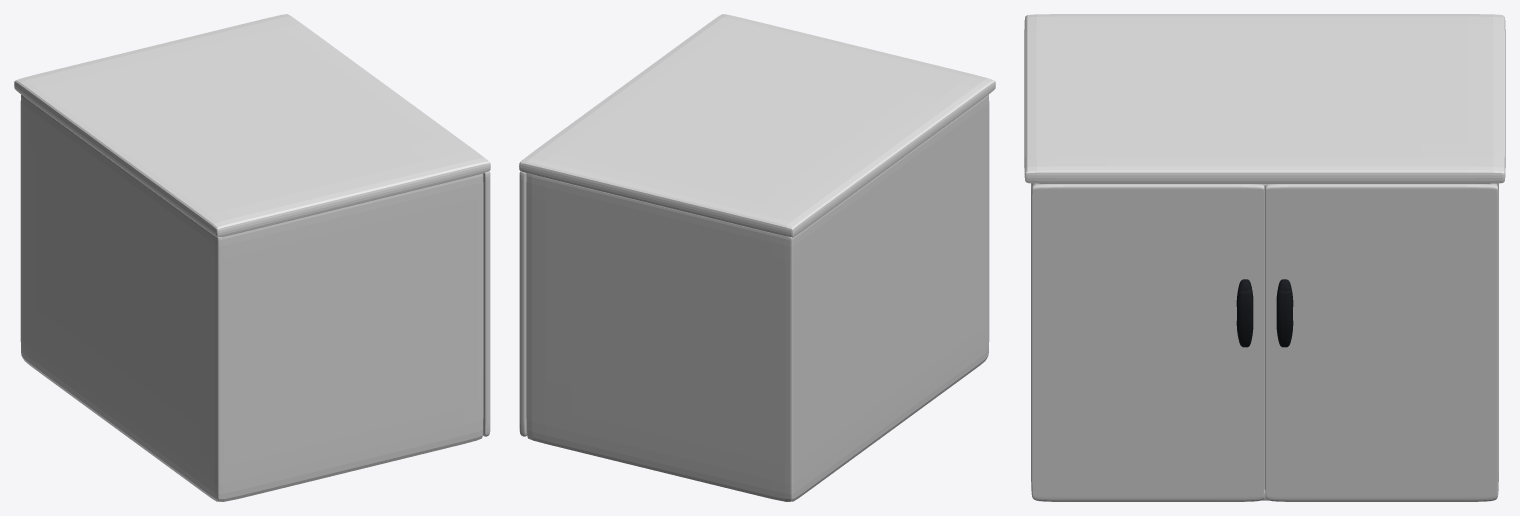
File: tezgah.fbx
3 views of the same model, side by side, from view 1: azimuth 30°, elevation 25°; view 2: azimuth 150°, elevation 25°; view 3: azimuth 270°, elevation 25° (orthographic). The views are drawn at different scales.
Visible parts, largest first — view 1: Cube.001, Cube, Cube.003; view 2: Cube.001, Cube, Cube.003; view 3: Cube.003, Cube, Cube.005.
Boxes of the visible parts, x1,y1,x2,y2 form: Cube.001: (20,94,483,501); Cube: (14,14,490,237); Cube.003: (483,171,490,436); Cube.001: (526,94,989,501); Cube: (519,14,995,237); Cube.003: (519,171,526,436); Cube.003: (1031,184,1498,501); Cube: (1024,14,1505,183); Cube.005: (1236,279,1293,347).
Bounding box in the file's own units: 212 × 197 × 257.
